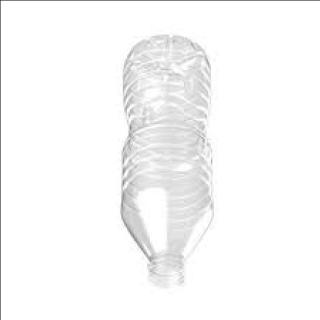Anorganik: (111, 30, 216, 293)
